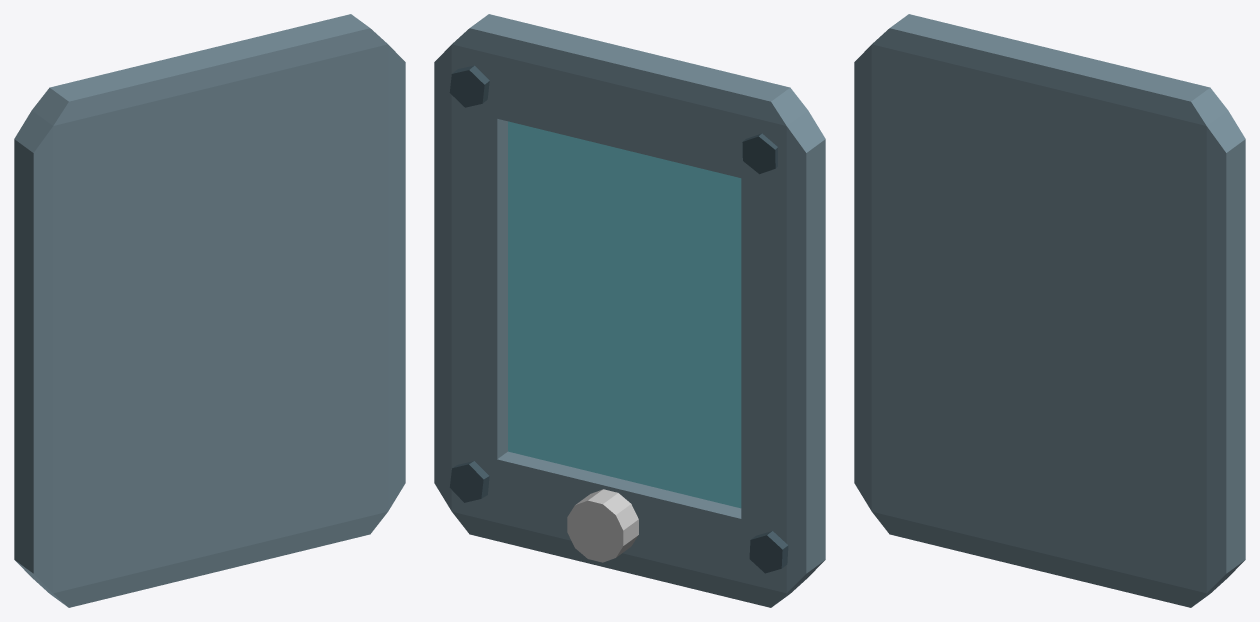
The picture shows the model from 3 angles, left to right: view 1: azimuth 30°, elevation 25°; view 2: azimuth 150°, elevation 25°; view 3: azimuth 330°, elevation 25°; orthographic projection.
Parts seen in each view (by area): view 1: group_2010311670; view 2: group_2010311670, group_374480567; view 3: group_2010311670.
Boxes of the visible parts, x1,y1,x2,y2 form: group_2010311670: (14, 14, 405, 607); group_2010311670: (434, 14, 825, 607); group_374480567: (567, 489, 638, 562); group_2010311670: (854, 14, 1245, 607).
Bounding box in the file's own units: 20 × 26 × 3.45.
